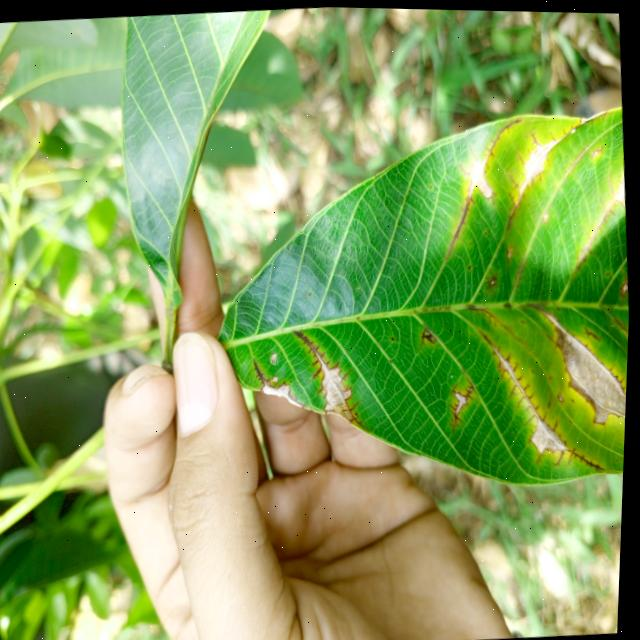Colletotrichum: (469, 262, 473, 267), (310, 290, 313, 294)
Corynespora: (478, 319, 613, 475), (496, 106, 615, 233), (436, 113, 531, 257), (534, 295, 632, 425), (292, 323, 370, 431), (566, 171, 632, 274), (449, 371, 484, 428), (468, 300, 517, 328), (254, 356, 273, 387), (484, 266, 501, 289), (619, 270, 631, 301), (421, 325, 438, 342)
Leaf-Blight: (532, 413, 571, 449), (264, 380, 305, 408)
